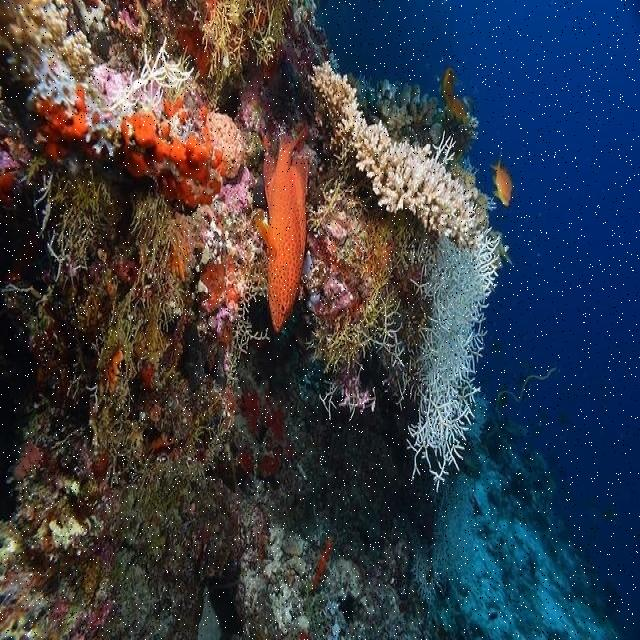fish: (253, 126, 309, 334), (487, 148, 515, 207)
reefs: (309, 59, 484, 249), (394, 230, 504, 490), (122, 95, 244, 212), (33, 86, 105, 165), (197, 254, 244, 369)
